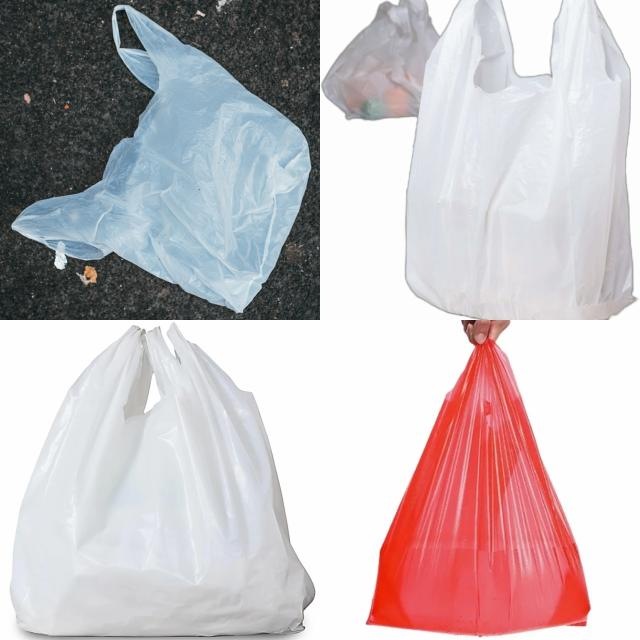Single-layer Plastic: (10, 325, 314, 636), (12, 5, 310, 312), (406, 0, 634, 320), (368, 340, 590, 634), (322, 0, 439, 119)
